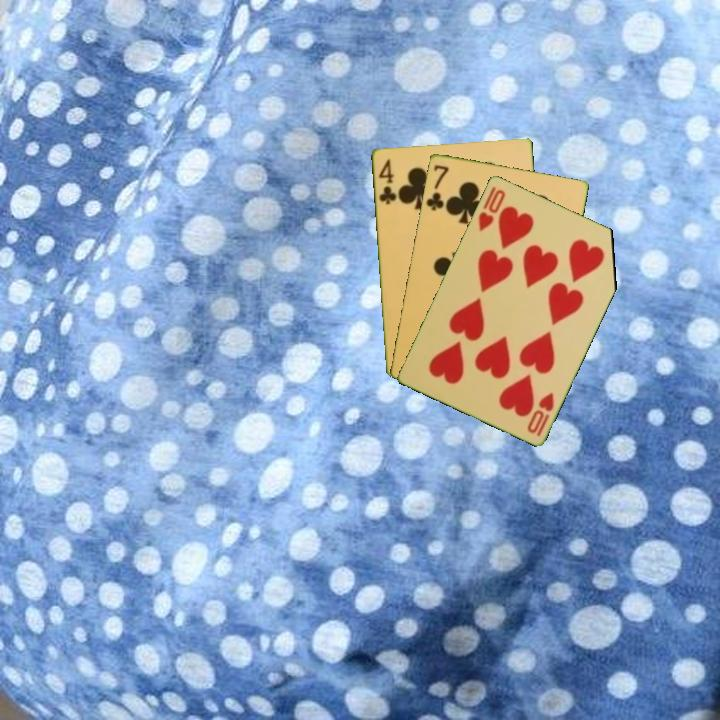10h: (523, 388, 557, 439), (475, 182, 508, 234)
4c: (375, 155, 399, 207)
7c: (422, 161, 451, 213)
